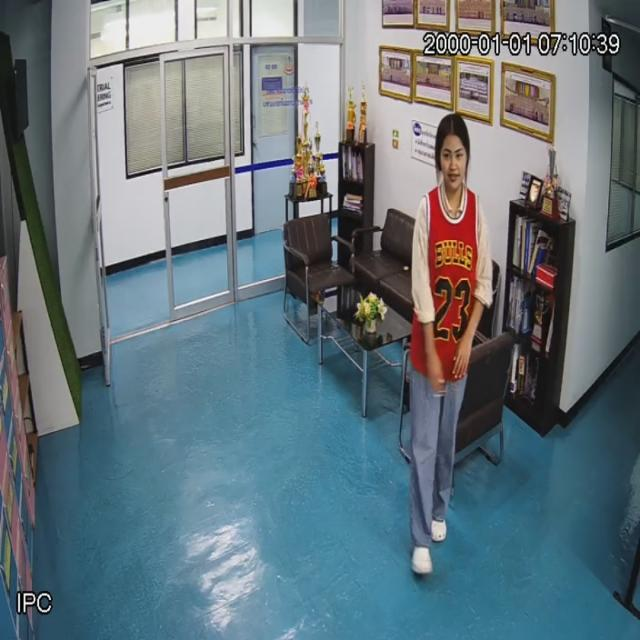normal: (410, 105, 488, 574)
